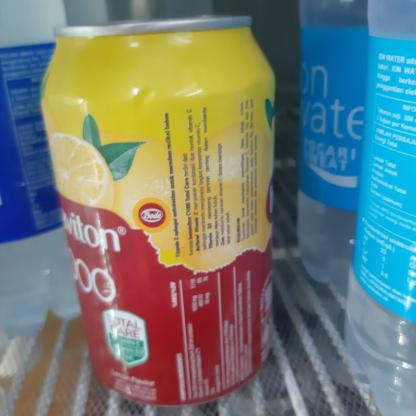alumunium_can: (38, 2, 282, 416)
